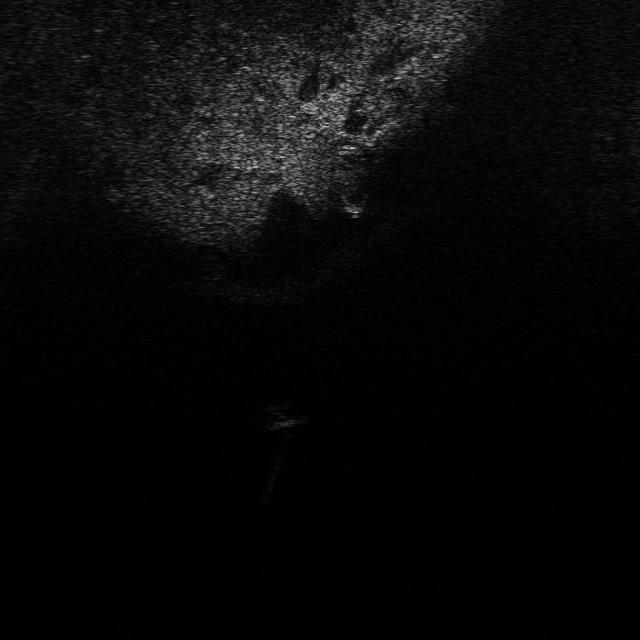ball: (332, 171, 373, 210)
cube: (258, 397, 310, 431)
